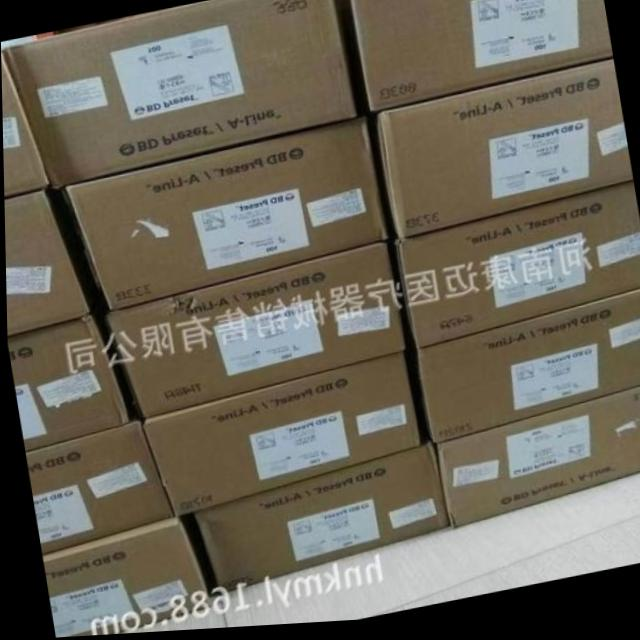box: (1, 0, 358, 190), (65, 120, 386, 312), (105, 245, 405, 421), (140, 354, 419, 520), (377, 66, 632, 245), (393, 188, 640, 353), (192, 447, 446, 598), (415, 297, 640, 451), (350, 0, 613, 117), (434, 393, 640, 535), (40, 517, 207, 638), (23, 422, 172, 555), (6, 314, 130, 453), (3, 191, 89, 336), (1, 48, 50, 196)
